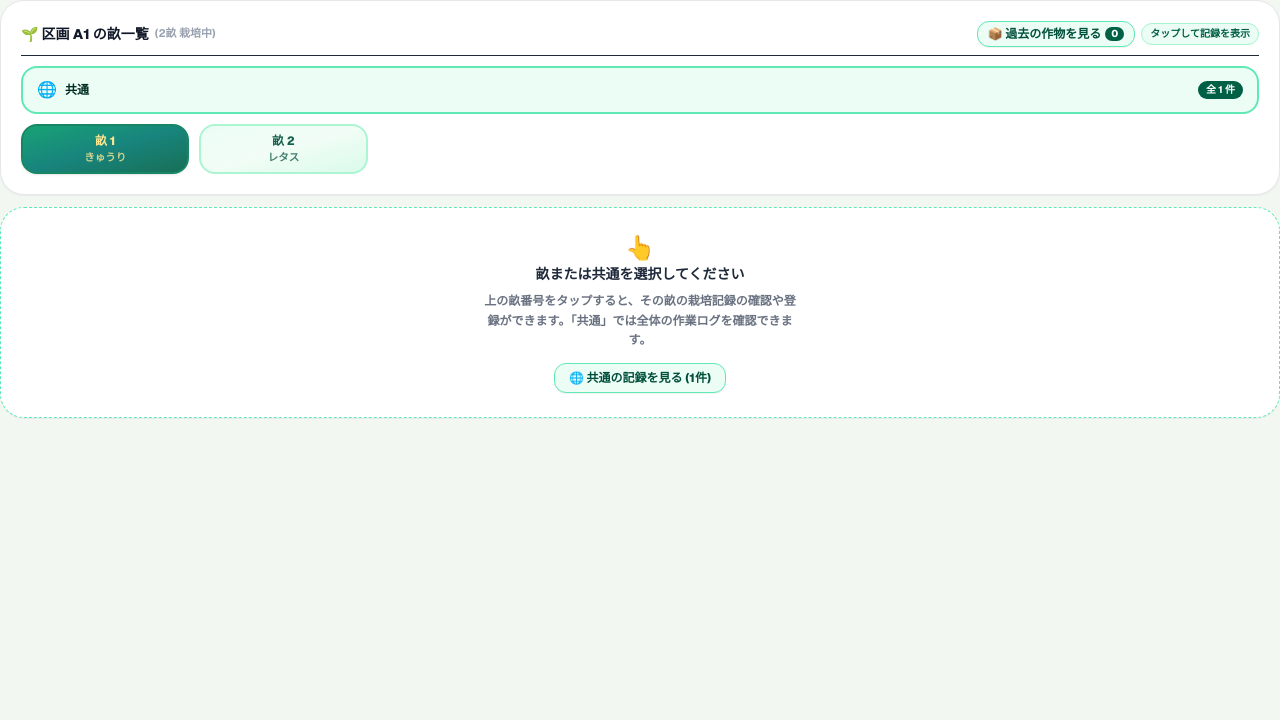
Scenario: StudentFarmRecordView - 登録済みタスクのベッド変更機能 & 共通タイムライン分離検証 › 畝ボタンをタップすると、その畝のタイムラインが表示されスムーズスクロールが呼ばれること
Click the button "畝 1 きゅうり" at (105, 149), box 21,124 -> 189,174
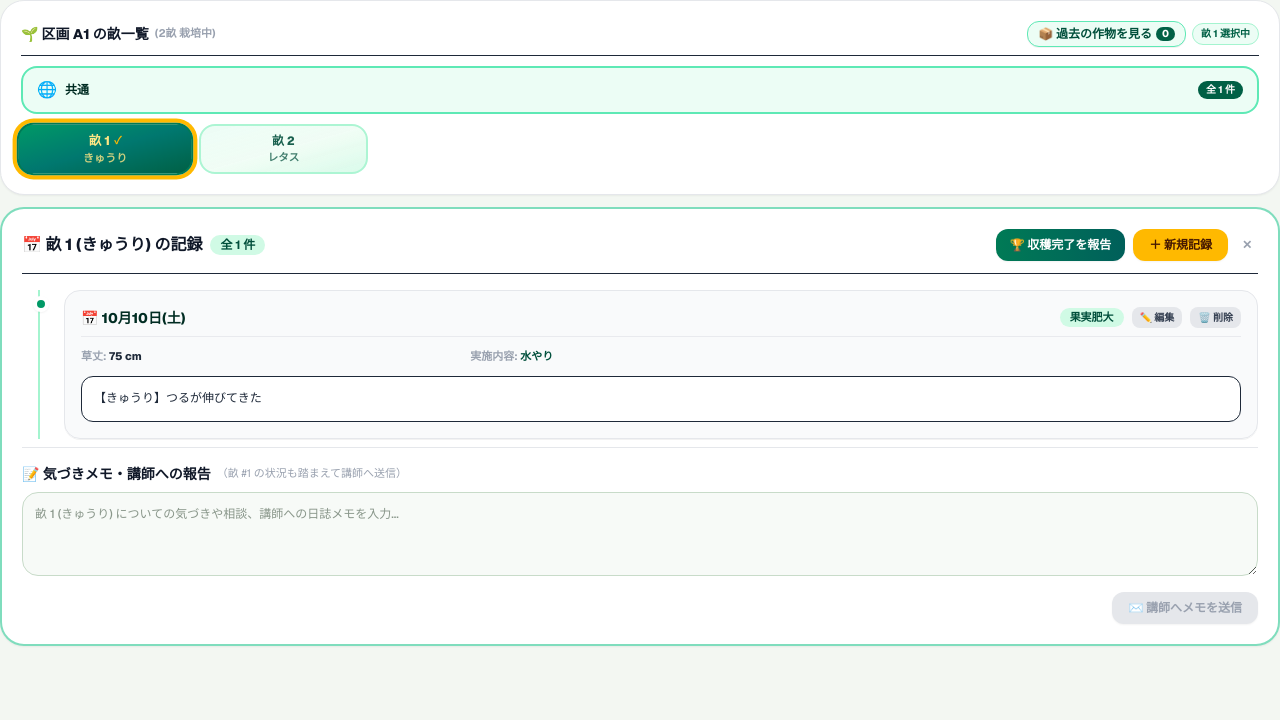
Now the heading "📅 畝 1 (きゅうり) の記録" is shown, box 22,233 -> 202,257
